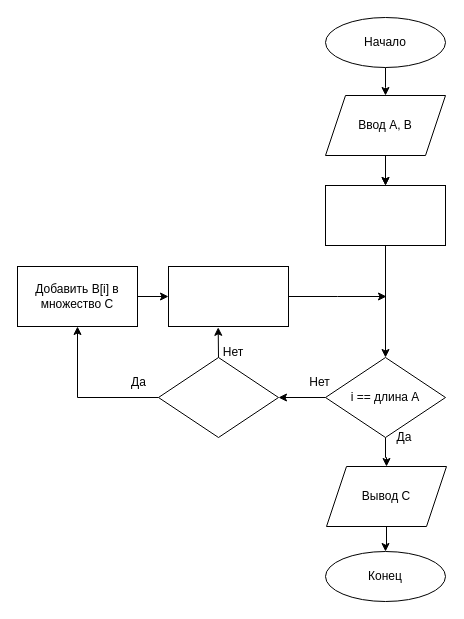
The diagram is 464 pixels wide and 619 high, and some of its shapes have lost their labels. The centre of each missing label's shape, as x and y in pixels:
"B[i] есть в множестве A?" goes at point (218, 397).
"i++" goes at point (228, 296).
"Новое пустое множество C; i = 0" goes at point (385, 215).
